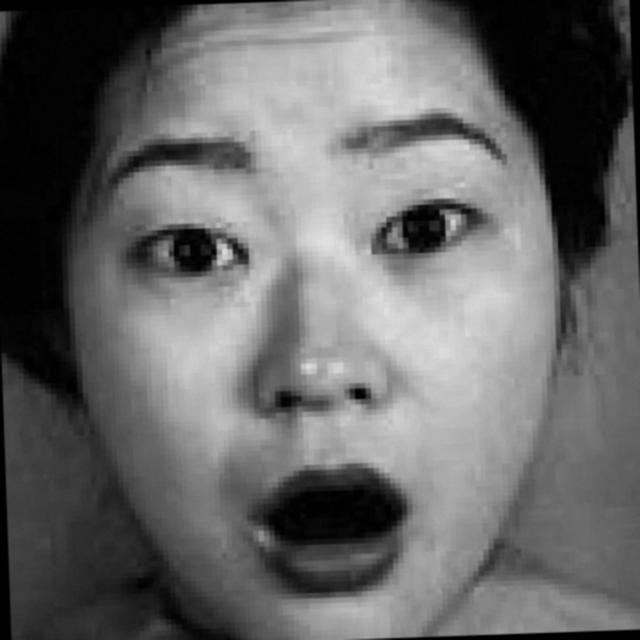surprise: (60, 10, 563, 640)
